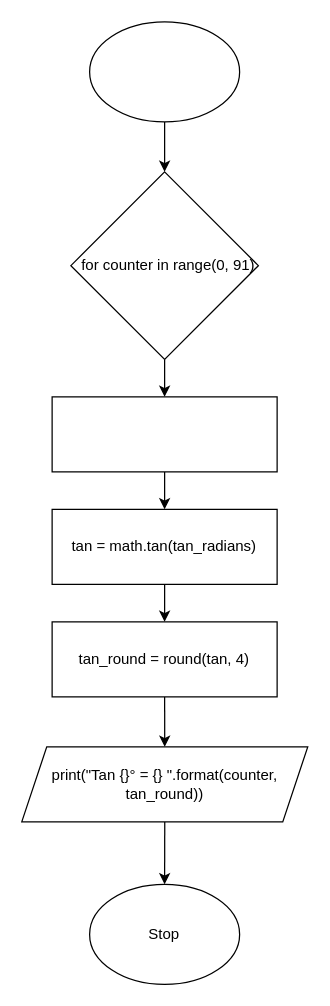
Some shapes in this 330 by 1006 pixel diagram are drawn without their labels. Here are the shapes that lost their labels. From the top down, the centre of each, then its label:
At [164,71]: "Start".
At [164,434]: "tan_radians = math.radians(counter)".
